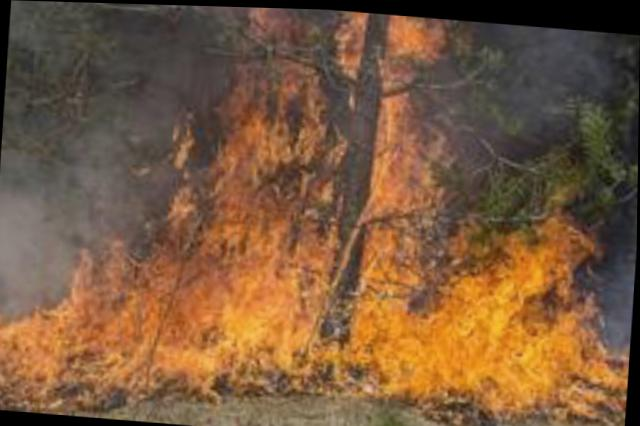fire: (0, 0, 639, 424)
